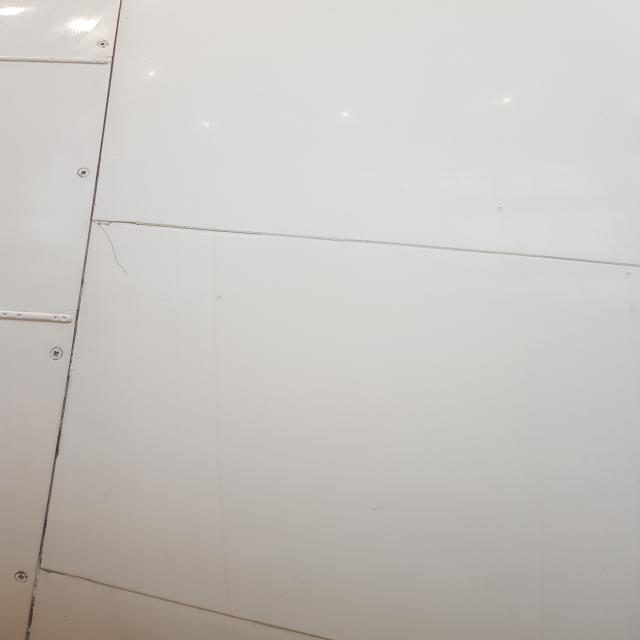Rupture: (90, 219, 130, 271)
